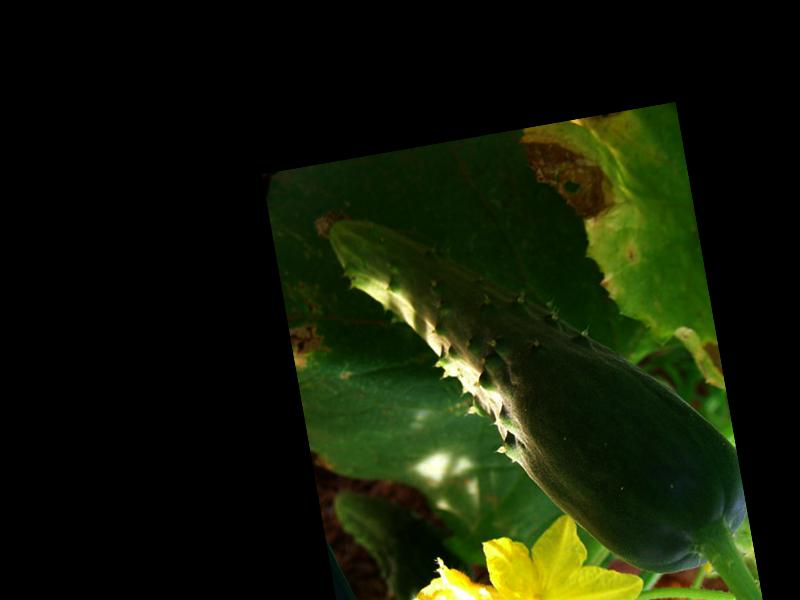Cucumber: (311, 150, 753, 600)
